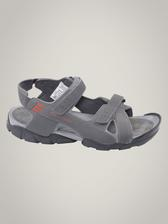shoes: (3, 74, 162, 153)
